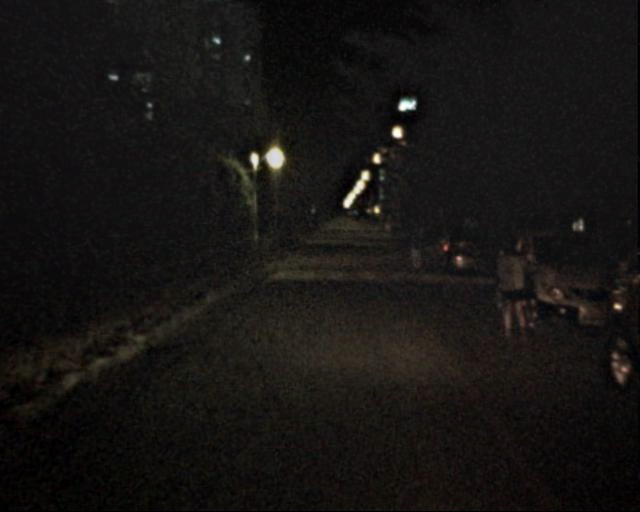person: (487, 236, 532, 345), (404, 221, 424, 270), (394, 223, 409, 259)
